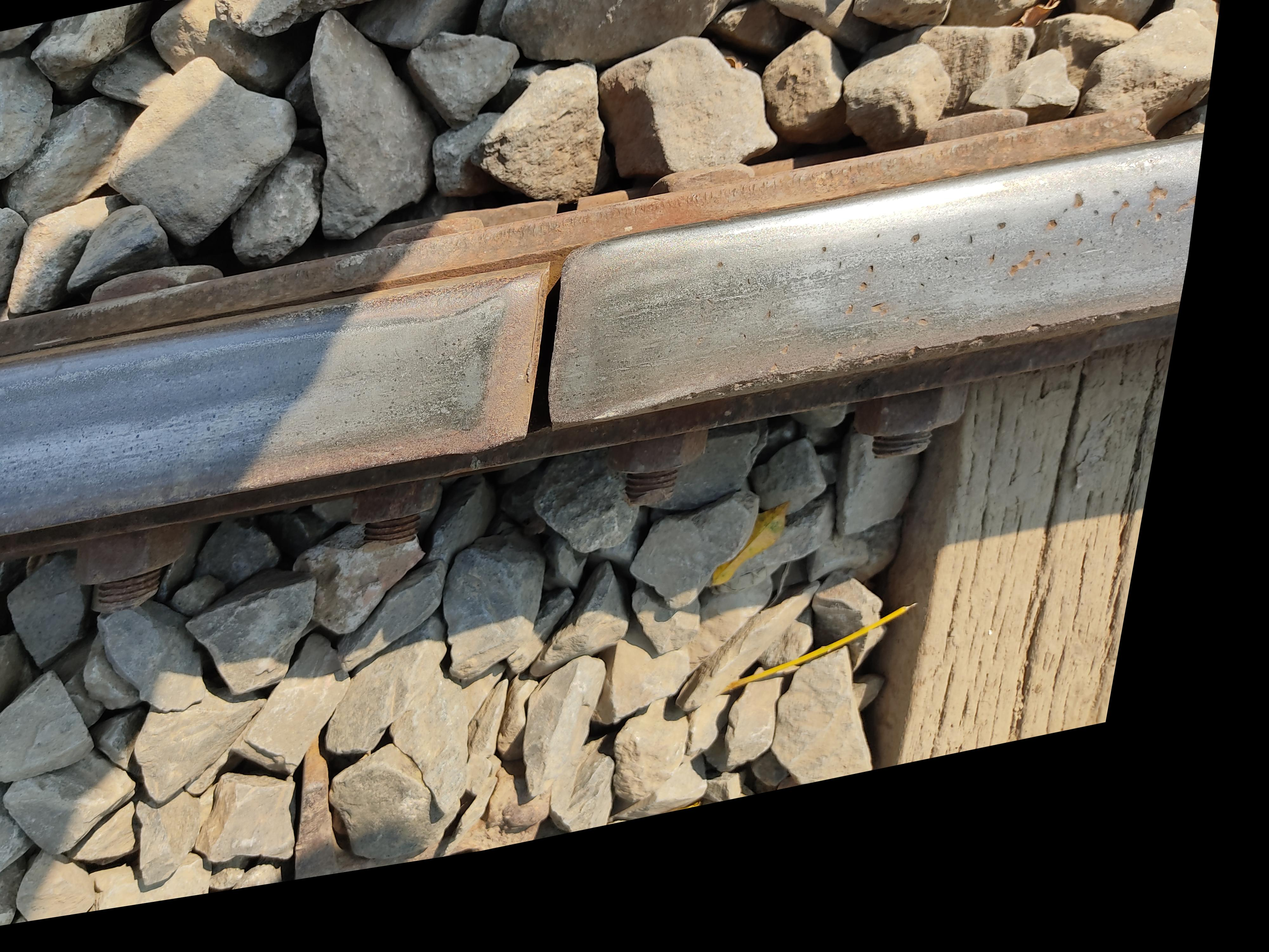person: (144, 584, 321, 755)
